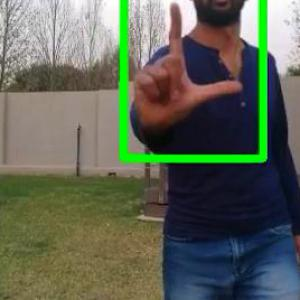land_hand: (130, 0, 247, 132)
